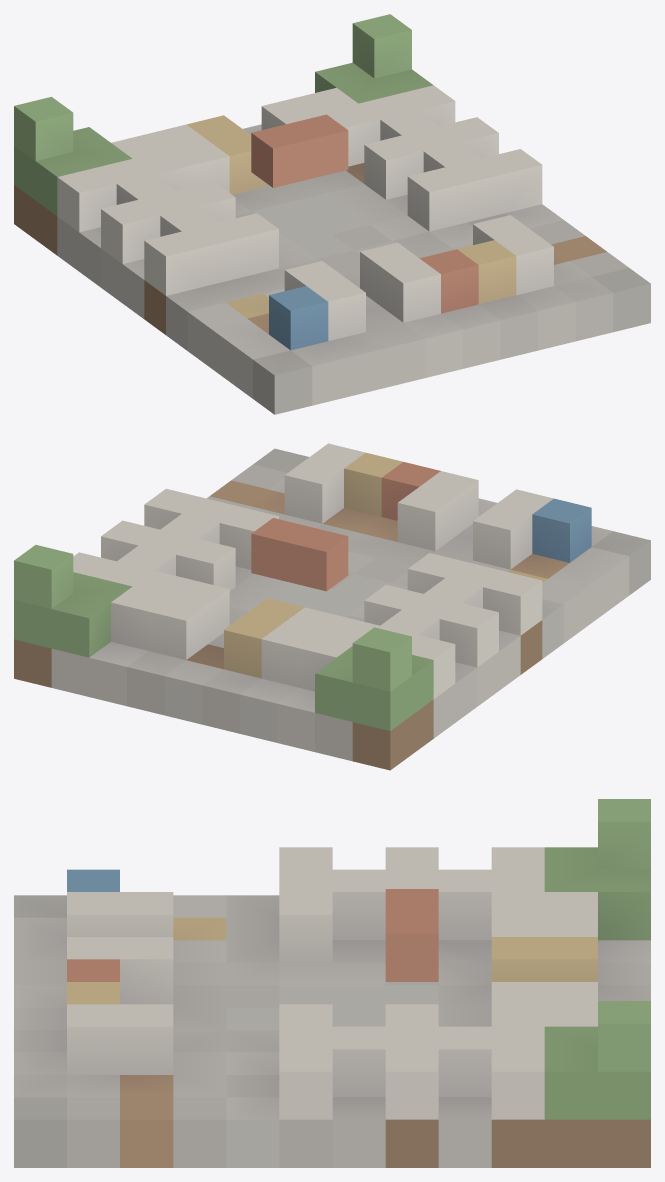
The model's file is market_small.l1.lite.glb.
The picture shows the model from 3 angles, top to bottom: view 1: azimuth 30°, elevation 25°; view 2: azimuth 150°, elevation 25°; view 3: azimuth 270°, elevation 25°; orthographic projection. The views are drawn at different scales.
Parts seen in each view (by area): view 1: market_small; view 2: market_small; view 3: market_small.
Part boxes in pixels (bbox=[...]): market_small: bbox=[14, 14, 650, 414]; market_small: bbox=[14, 443, 650, 770]; market_small: bbox=[14, 799, 650, 1167].
Bounding box in the file's own units: 5 × 1.5 × 6.
